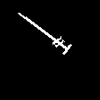treble_crochet: (18, 13, 71, 53)
